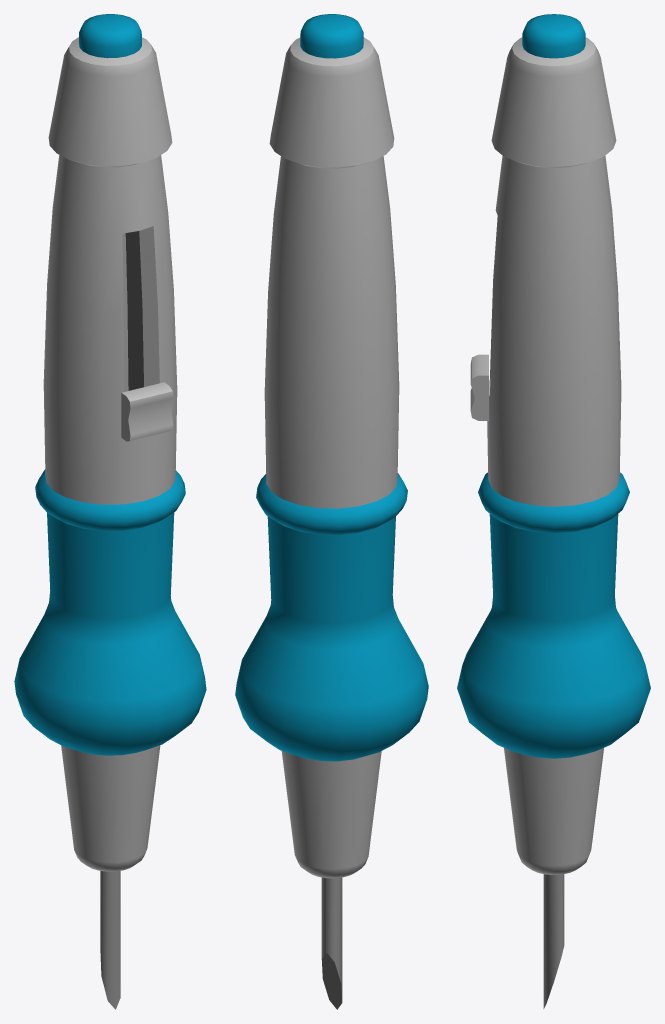
Rendered from sewing-machine.glb.
The picture shows the model from 3 angles, left to right: view 1: azimuth 30°, elevation 25°; view 2: azimuth 150°, elevation 25°; view 3: azimuth 270°, elevation 25°; orthographic projection.
Visible parts, largest first — view 1: base, color change, needle, color change2; view 2: base, color change, needle, color change2; view 3: base, color change, color change2, needle.
Part boxes in pixels (bbox=[...]): base: bbox=[43, 37, 177, 871]; color change: bbox=[14, 469, 206, 755]; needle: bbox=[100, 871, 120, 1009]; color change2: bbox=[79, 14, 141, 58]; base: bbox=[264, 37, 399, 878]; color change: bbox=[235, 473, 428, 761]; needle: bbox=[321, 877, 342, 1009]; color change2: bbox=[300, 14, 363, 58]; base: bbox=[470, 37, 621, 874]; color change: bbox=[457, 472, 650, 758]; color change2: bbox=[522, 14, 585, 58]; needle: bbox=[543, 874, 564, 1008].
Bounding box in the file's own units: 1.57 × 8.82 × 1.57.
